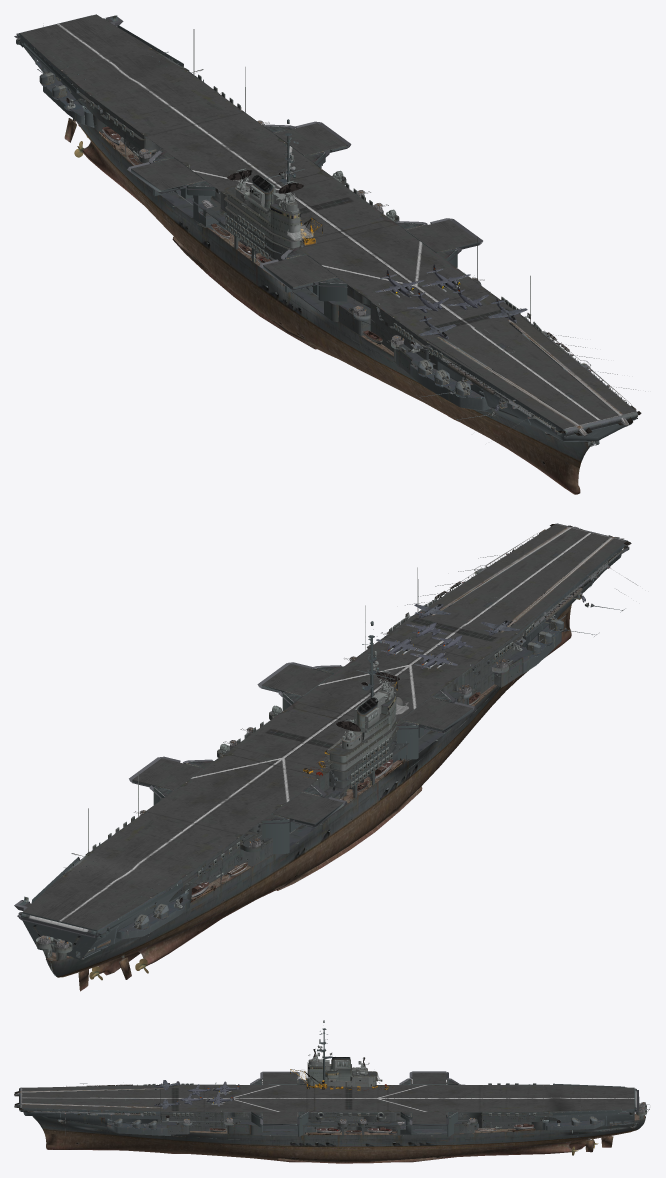
The model's file is carrier.glb.
3 renders of one model, top to bottom at view 1: azimuth 30°, elevation 25°; view 2: azimuth 150°, elevation 25°; view 3: azimuth 270°, elevation 25°, orthographic. The views are drawn at different scales.
Visible parts, largest first — view 1: m17, m0, m40, m35, m38, m34, m12, m48, m49, m36, m74, m52; view 2: m17, m0, m40, m35, m38, m34, m48, m12, m49, m36, m74; view 3: m0, m17, m40, m38, m35, m49, m48, m34, m36, m12, m74, m52 (+4 smaller).
Boxes of the visible parts, x1,y1,x2,y2 form: m17: [55, 29, 540, 380]; m0: [43, 25, 599, 494]; m40: [16, 14, 610, 397]; m35: [428, 316, 635, 429]; m38: [19, 14, 635, 441]; m34: [410, 330, 645, 436]; m12: [84, 74, 541, 358]; m48: [14, 15, 482, 290]; m49: [66, 97, 530, 352]; m36: [437, 319, 625, 433]; m74: [375, 264, 470, 297]; m52: [37, 69, 560, 395]; m17: [36, 567, 541, 960]; m0: [45, 558, 584, 991]; m40: [18, 621, 562, 937]; m35: [419, 523, 626, 634]; m38: [22, 530, 624, 959]; m34: [405, 523, 637, 647]; m48: [14, 662, 476, 937]; m12: [88, 599, 534, 951]; m49: [174, 612, 522, 908]; m36: [431, 527, 617, 632]; m74: [376, 637, 457, 669]; m0: [32, 1062, 648, 1163]; m17: [104, 1064, 646, 1134]; m40: [37, 1020, 636, 1136]; m38: [21, 1084, 634, 1135]; m35: [21, 1085, 164, 1111]; m49: [166, 1039, 560, 1126]; m48: [250, 1071, 638, 1125]; m34: [14, 1083, 169, 1134]; m36: [15, 1088, 163, 1108]; m12: [143, 1083, 536, 1116]; m74: [206, 1081, 240, 1106]; m52: [108, 1116, 604, 1128].
Bounding box in the file's own units: 49.13 × 49.5 × 246.
Materials: 53 (52 with a texture image).
